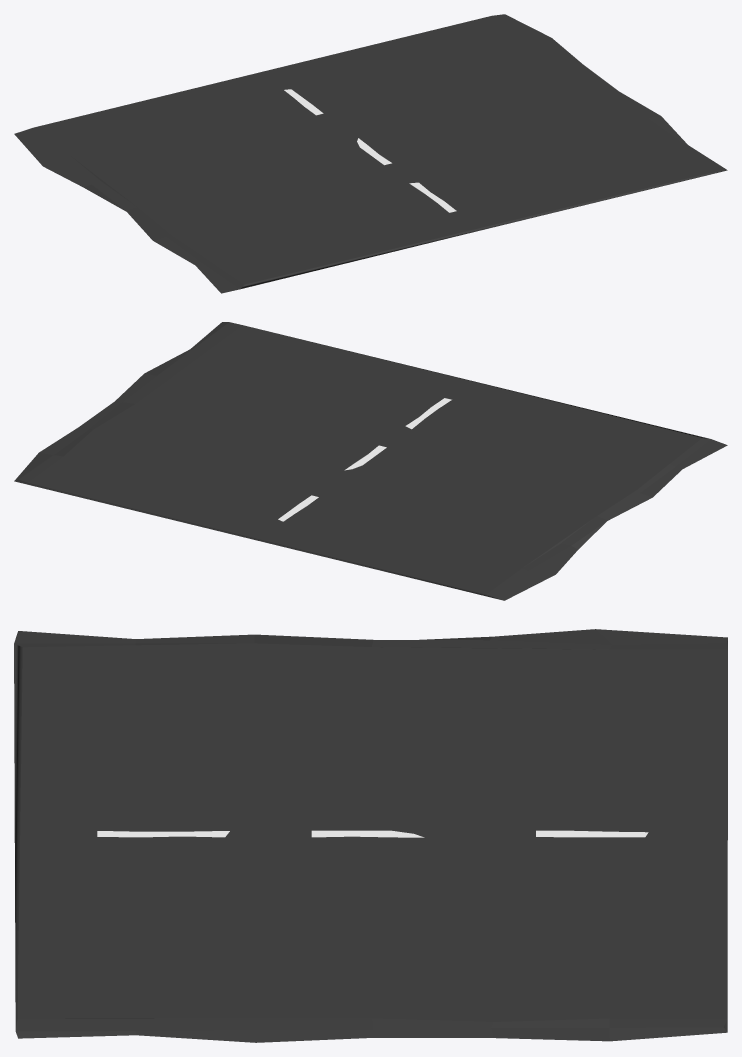
The model's file is Estrada1.fbx.
3 views of the same model, one above another, from view 1: azimuth 30°, elevation 25°; view 2: azimuth 150°, elevation 25°; view 3: azimuth 270°, elevation 25° (orthographic). The views are drawn at different scales.
Visible parts, largest first — view 1: Estrada1; view 2: Estrada1; view 3: Estrada1.
Boxes of the visible parts, x1,y1,x2,y2 form: Estrada1: [14, 14, 727, 293]; Estrada1: [14, 322, 727, 600]; Estrada1: [14, 629, 727, 1042].
Bounding box in the file's own units: 5793 × 31.54 × 4222.
